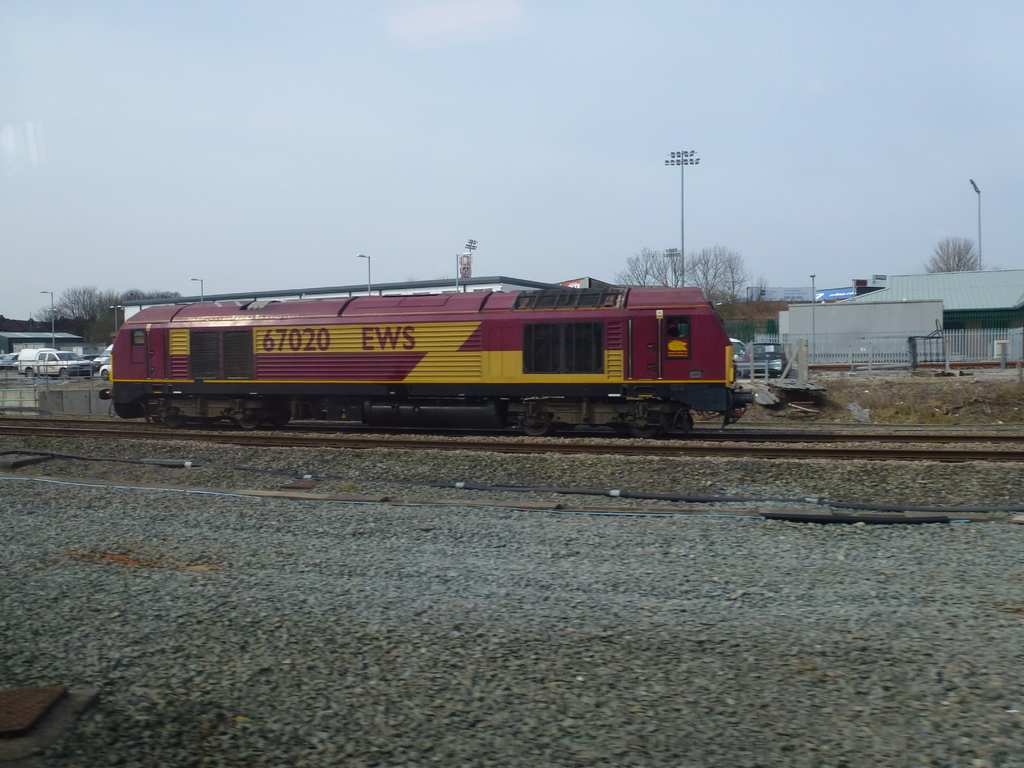train: (97, 285, 752, 441)
